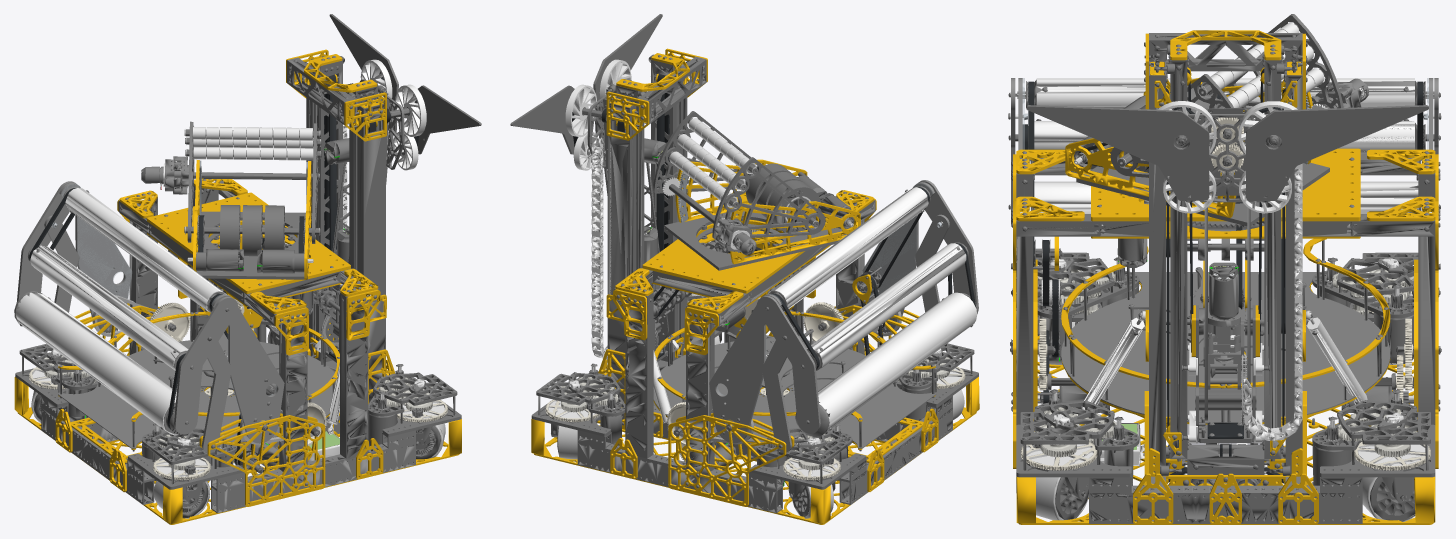
Rendered from hero-multiclass-5800.glb.
3 views of the same model, side by side, from view 1: azimuth 30°, elevation 25°; view 2: azimuth 150°, elevation 25°; view 3: azimuth 270°, elevation 25° (orthographic). The views are drawn at different scales.
Parts seen in each view (by area): view 1: frame, intake-outer, intake-inner, turret, elevator-stage, wrist, intake-middle, wrist-roller, carriage, flywheel-1, flywheel-2, flywheel-0 (+1 smaller); view 2: frame, intake-outer, turret, intake-inner, elevator-stage, wrist, intake-middle, wrist-roller, carriage, flywheel-0, spindexer-star; view 3: frame, wrist, elevator-stage, turret, carriage, intake-outer, intake-inner, wrist-roller, spindexer-star.
Boxes of the visible parts, x1,y1,x2,y2 form: frame: (14, 56, 461, 524); intake-outer: (14, 181, 237, 435); intake-inner: (59, 182, 284, 443); turret: (184, 121, 321, 279); elevator-stage: (286, 49, 386, 372); wrist: (324, 14, 481, 340); intake-middle: (44, 215, 231, 452); wrist-roller: (360, 59, 426, 170); carriage: (312, 228, 349, 362); flywheel-1: (242, 205, 262, 256); flywheel-2: (264, 205, 284, 249); flywheel-0: (220, 205, 240, 249); frame: (531, 54, 979, 524); intake-outer: (756, 180, 978, 437); turret: (653, 111, 860, 270); intake-inner: (709, 182, 934, 443); elevator-stage: (606, 48, 707, 371); wrist: (510, 14, 668, 341); intake-middle: (762, 214, 949, 452); wrist-roller: (565, 59, 631, 170); carriage: (644, 226, 680, 361); flywheel-0: (767, 180, 821, 232); spindexer-star: (714, 330, 845, 395); frame: (1010, 35, 1441, 524); wrist: (1026, 105, 1428, 420); elevator-stage: (1145, 30, 1305, 474); turret: (1065, 14, 1343, 227); carriage: (1182, 262, 1269, 443); intake-outer: (1008, 78, 1441, 231); intake-inner: (1017, 78, 1434, 306); wrist-roller: (1157, 101, 1297, 213); spindexer-star: (1128, 268, 1306, 362).
Size of the model in its own units: 0.7304 by 0.7566 by 0.6435.
